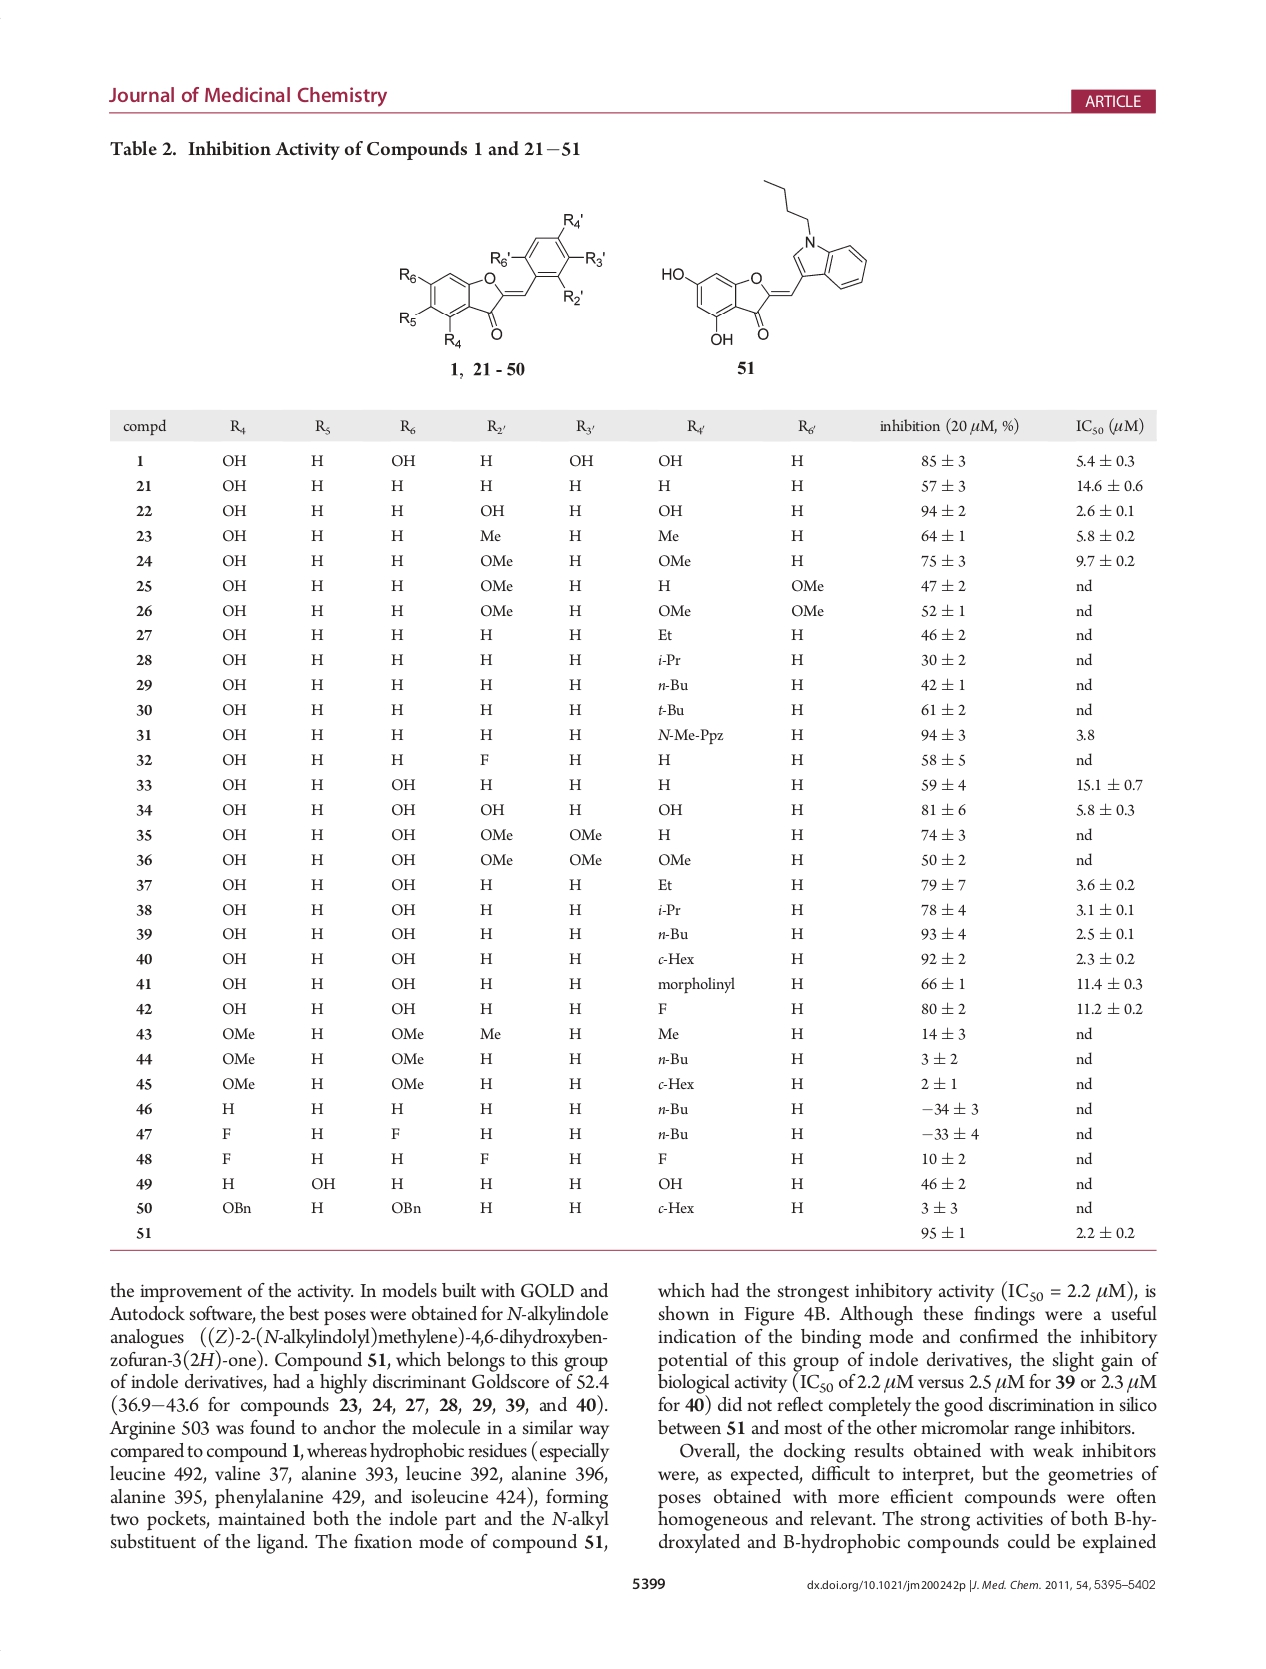exist_molecular: (657, 176, 868, 348), (395, 210, 610, 350)
